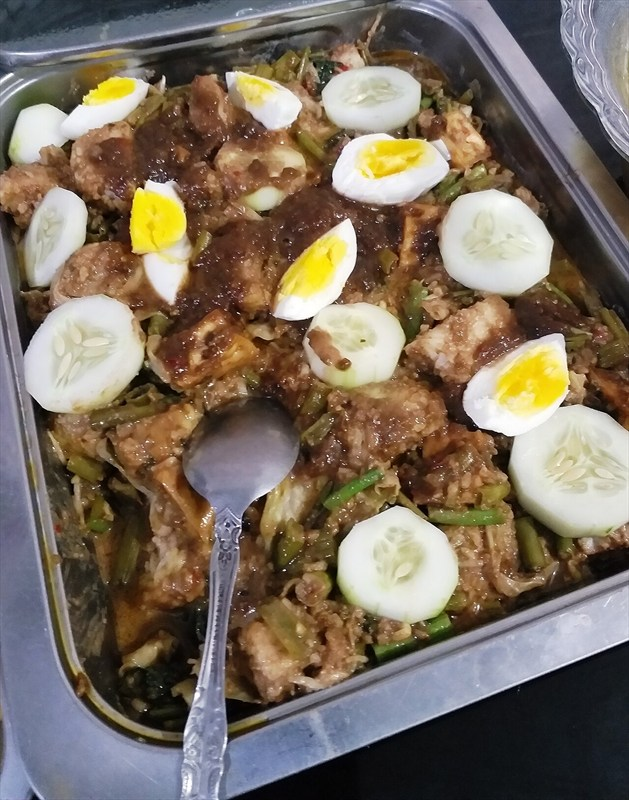Gado-Gado: (76, 65, 568, 675)
